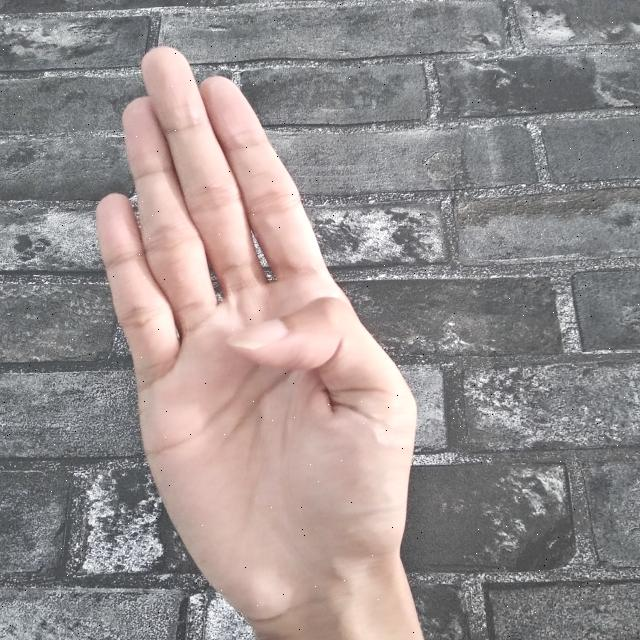B: (87, 46, 446, 640)
